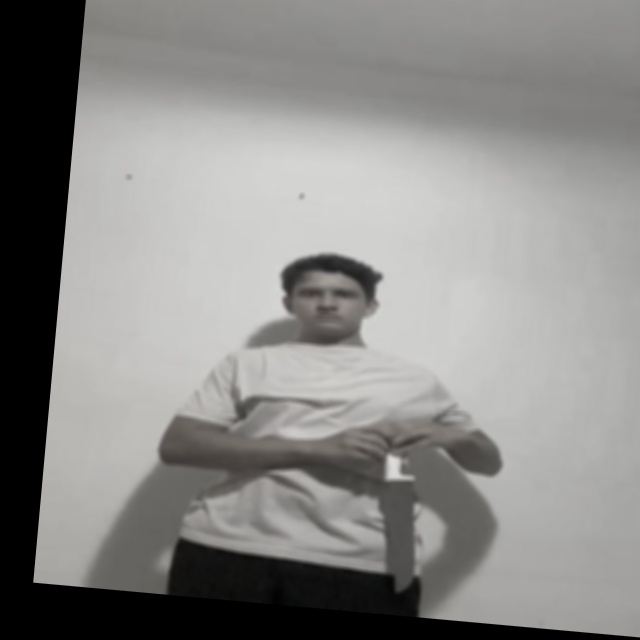Sharp-Object: (371, 478, 427, 592)
